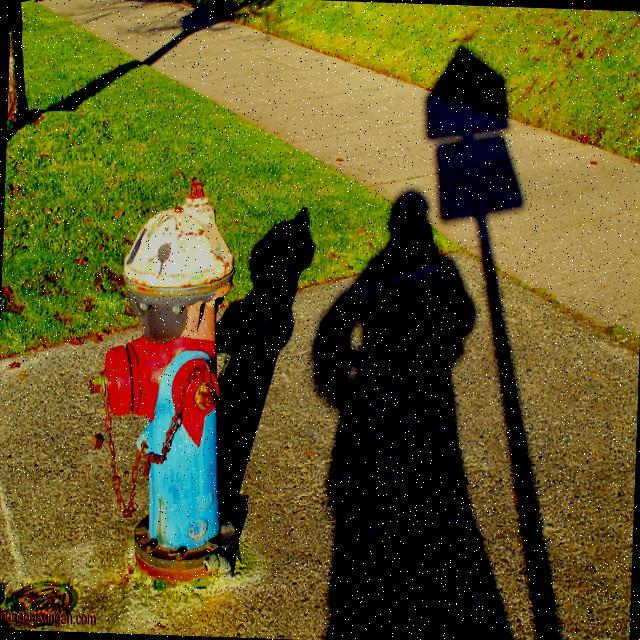fire_hydrant: (81, 173, 252, 594)
